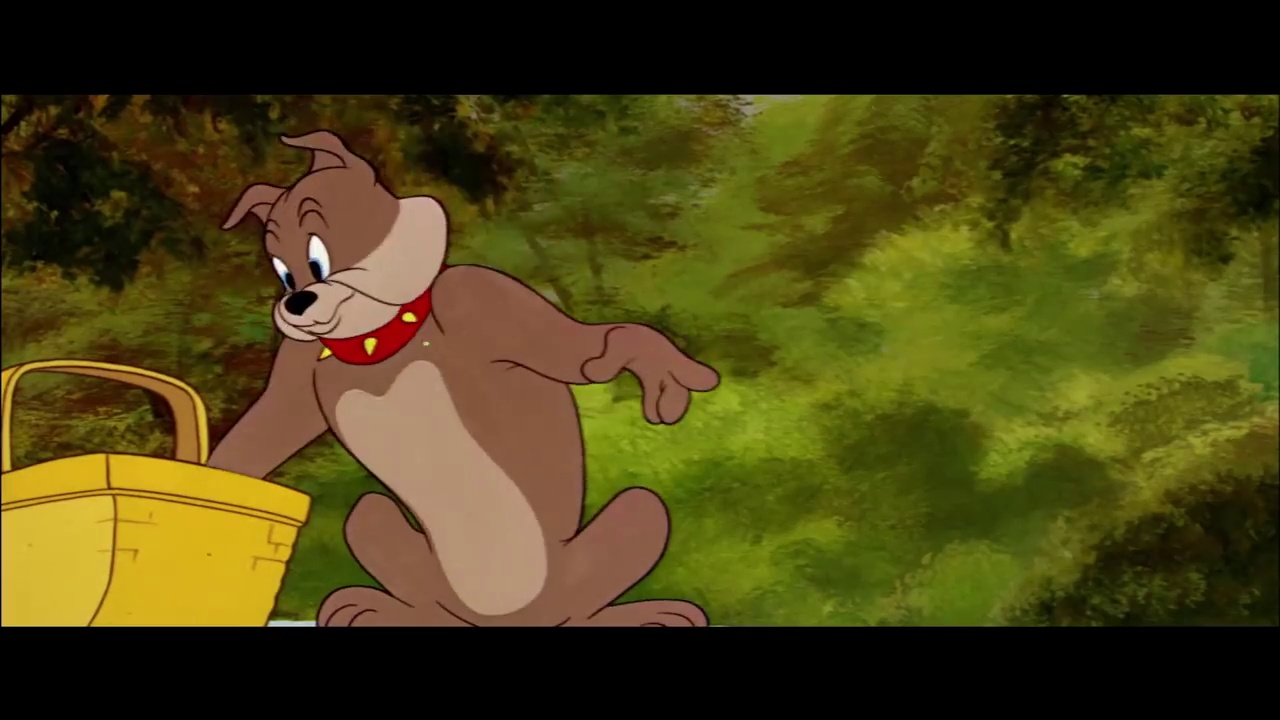spike: (221, 129, 471, 372)
